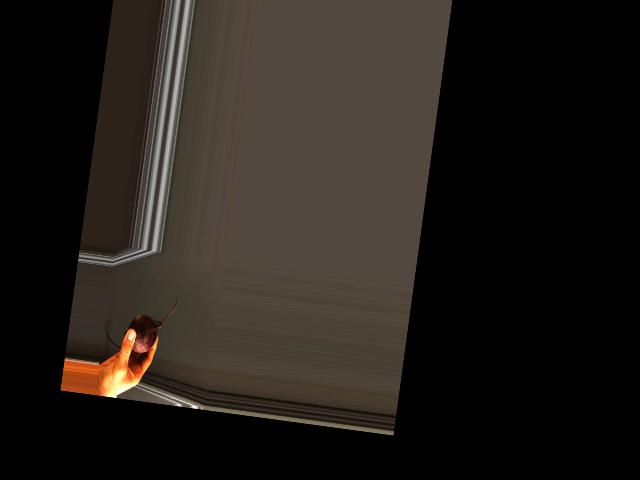beet: (101, 286, 177, 356)
